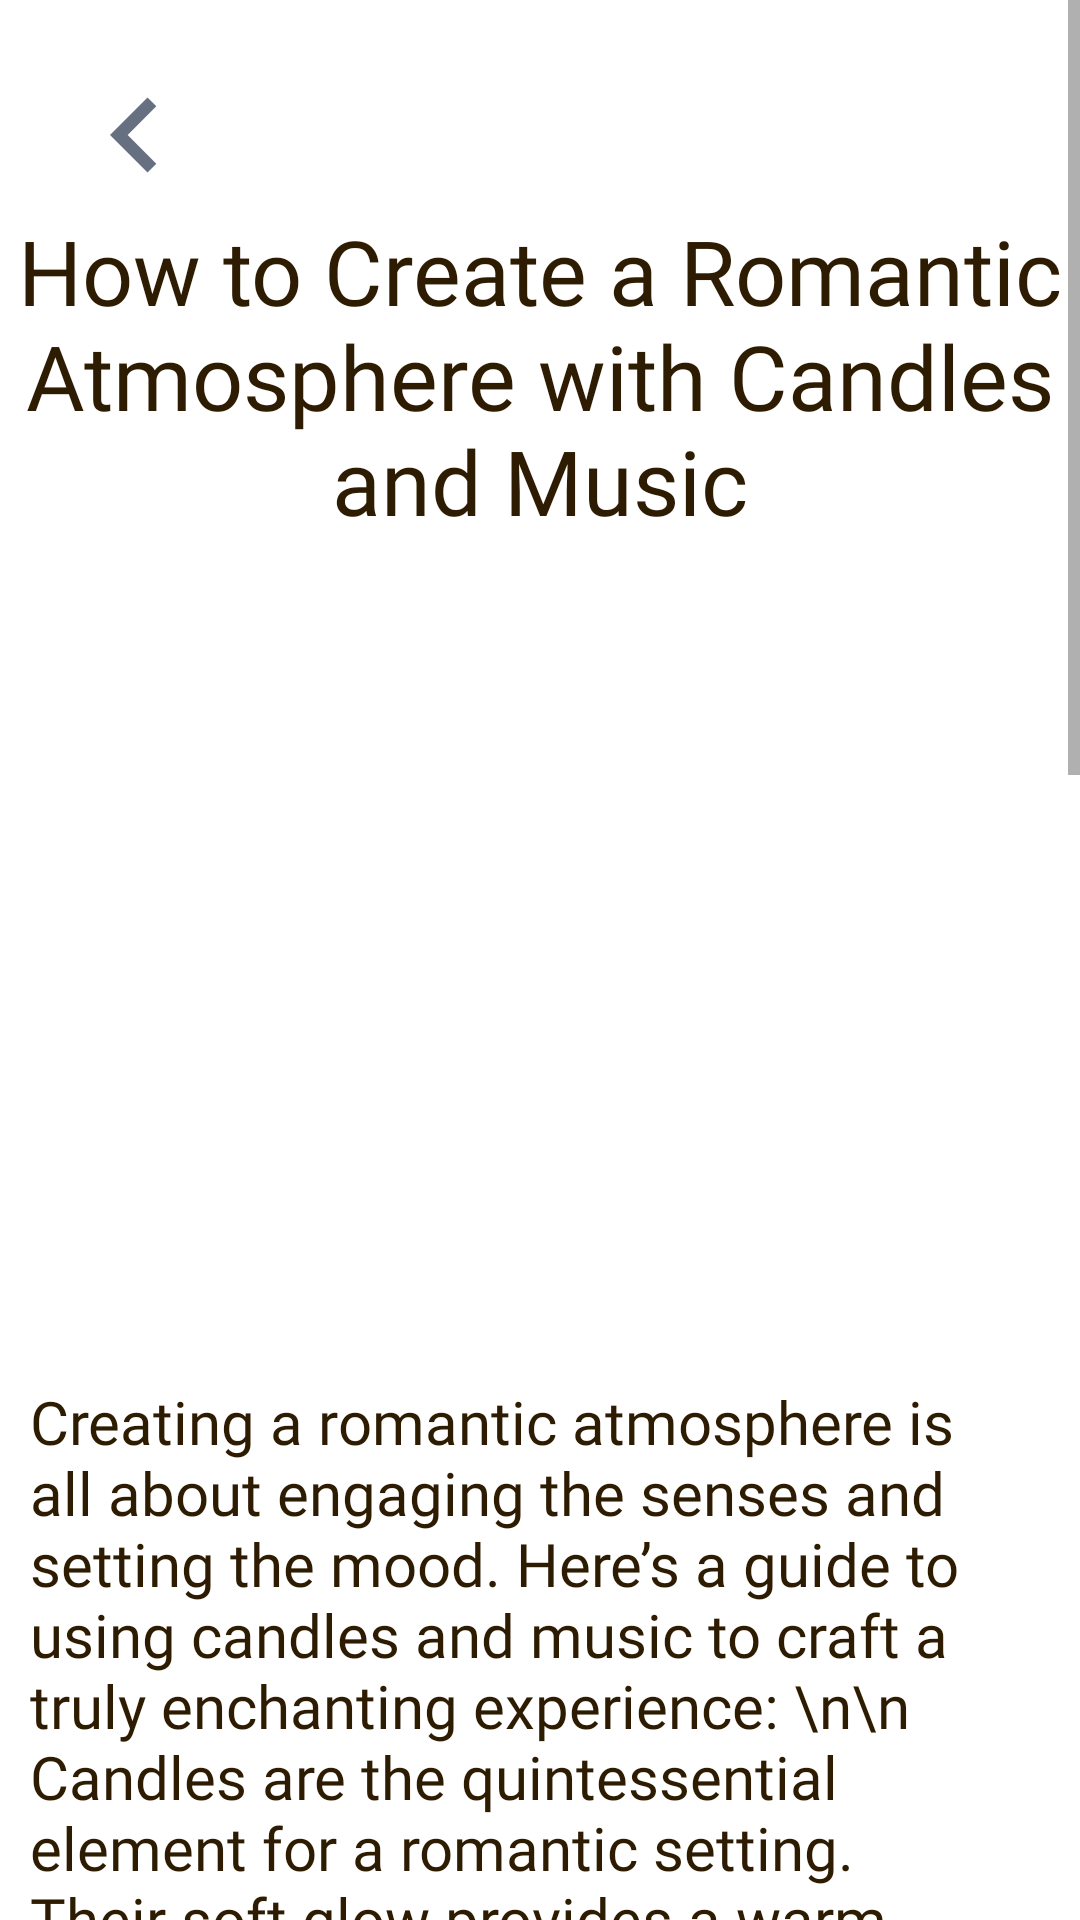

Named icons in this screenshot (1080x1920) and their centers, (x,y):
keyboard arrow left: (133,135)
